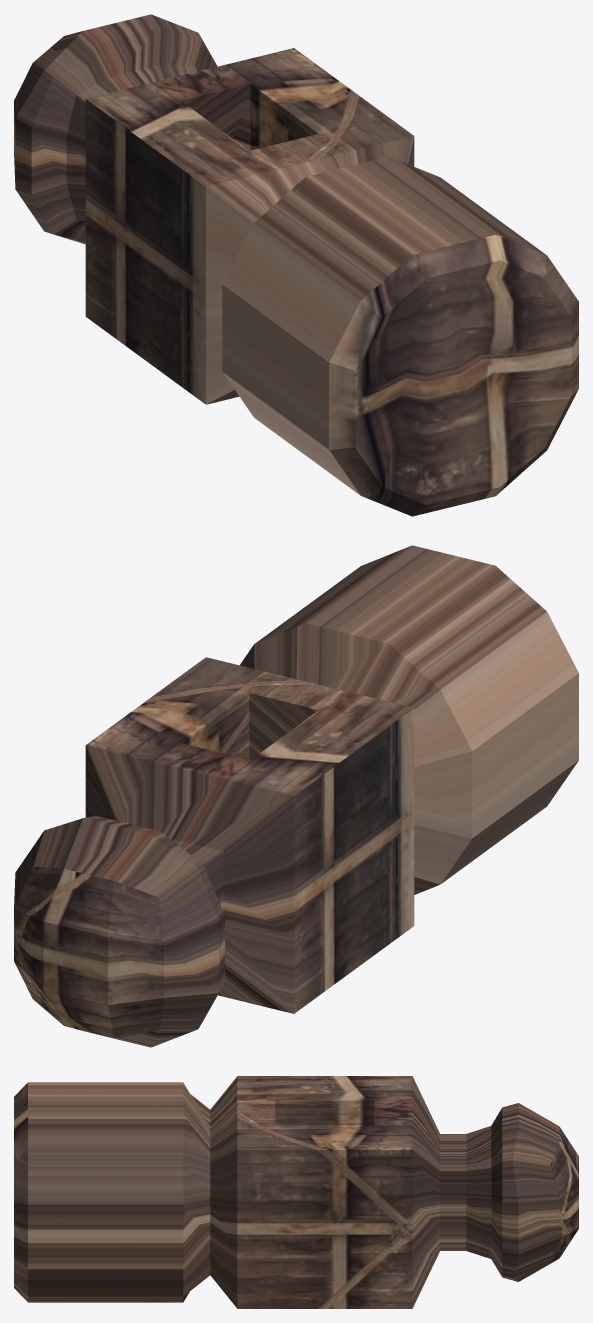
File: hammer-simple.obj
The picture shows the model from 3 angles, top to bottom: view 1: azimuth 30°, elevation 25°; view 2: azimuth 150°, elevation 25°; view 3: azimuth 270°, elevation 25°; orthographic projection. The views are drawn at different scales.
Parts seen in each view (by area): view 1: Cube; view 2: Cube; view 3: Cube.
Boxes of the visible parts, left/top/right/bottom form: Cube: left=14, top=14, right=578, bottom=516; Cube: left=14, top=545, right=578, bottom=1047; Cube: left=14, top=1076, right=578, bottom=1308.
Size of the model in its own units: 2.4 by 2.4 by 6.45.
